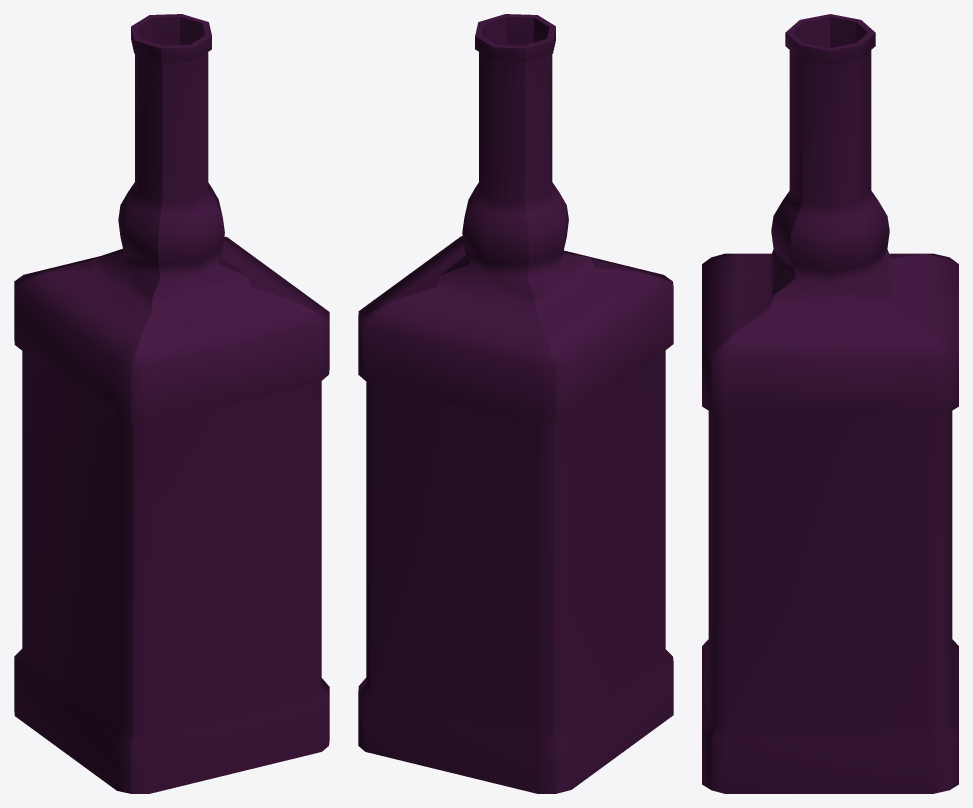
The model's file is ING_Bottle_Whiskey_v01.fbx.
3 renders of one model, left to right at view 1: azimuth 30°, elevation 25°; view 2: azimuth 150°, elevation 25°; view 3: azimuth 270°, elevation 25°, orthographic.
Parts seen in each view (by area): view 1: Rest_Bar_Set03_WhiskeyBottle_01; view 2: Rest_Bar_Set03_WhiskeyBottle_01; view 3: Rest_Bar_Set03_WhiskeyBottle_01.
Part boxes in pixels (box(x1,y1,x2,y2)): Rest_Bar_Set03_WhiskeyBottle_01: box(14, 14, 329, 793); Rest_Bar_Set03_WhiskeyBottle_01: box(358, 14, 673, 793); Rest_Bar_Set03_WhiskeyBottle_01: box(702, 14, 958, 793).
Size of the model in its own units: 3.23 by 10.07 by 3.31.
